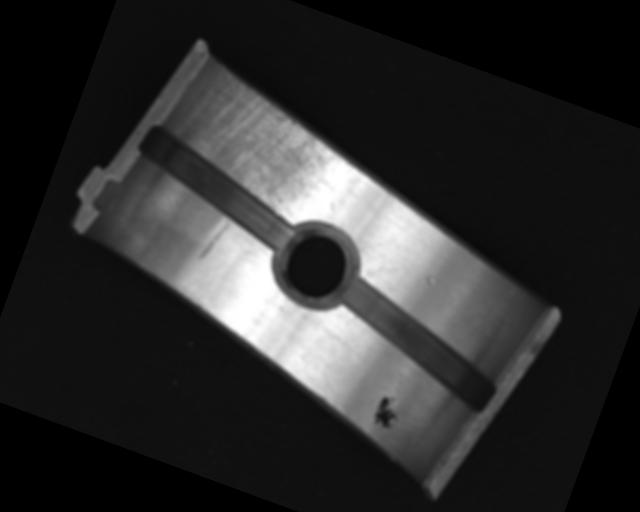blot: (368, 392, 407, 438)
bruise: (422, 274, 438, 286)
gap: (315, 271, 516, 417), (121, 121, 313, 255)
hole: (264, 212, 369, 315)
nick: (195, 211, 233, 266), (354, 228, 393, 262)
scratch: (163, 56, 362, 228)
